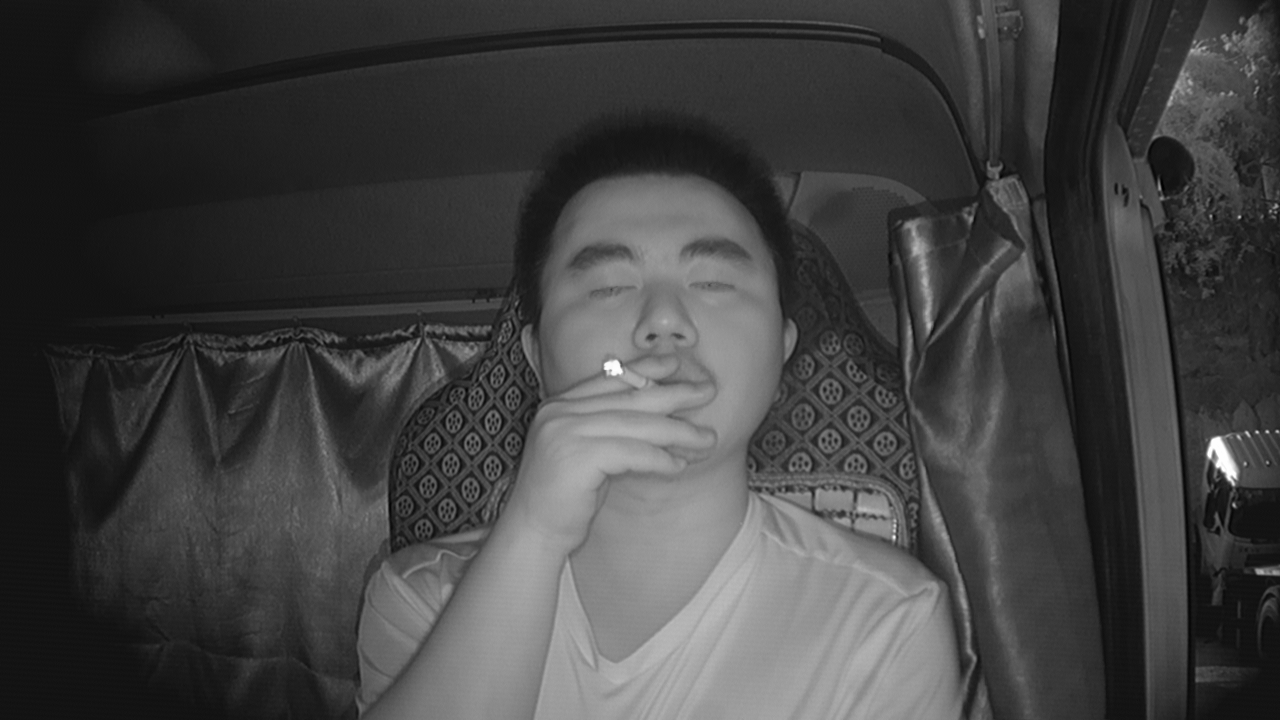hand: (568, 348, 692, 480)
